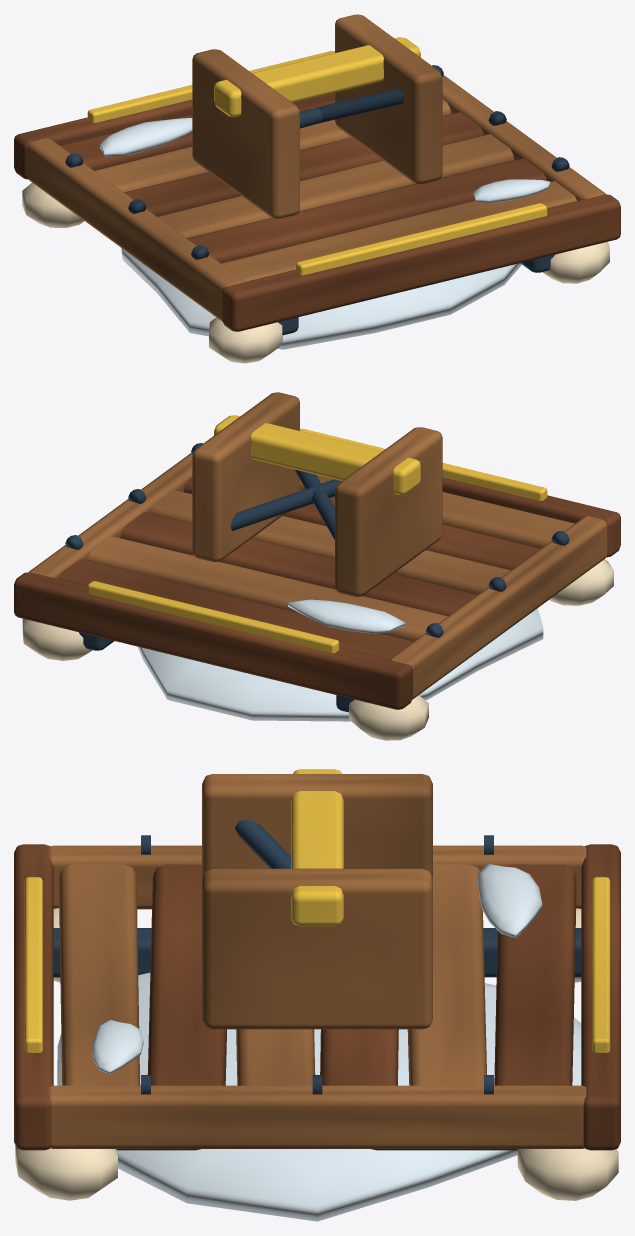
File: pad_build.glb
3 views of the same model, one above another, from view 1: azimuth 30°, elevation 25°; view 2: azimuth 150°, elevation 25°; view 3: azimuth 270°, elevation 25° (orthographic). The views are drawn at different scales.
Parts seen in each view (by area): view 1: pad_build; view 2: pad_build; view 3: pad_build.
Boxes of the visible parts, bbox=[...] form: pad_build: bbox=[14, 14, 620, 363]; pad_build: bbox=[14, 392, 620, 740]; pad_build: bbox=[14, 769, 620, 1221].
Size of the model in its own units: 1.91 by 0.9105 by 1.84.
